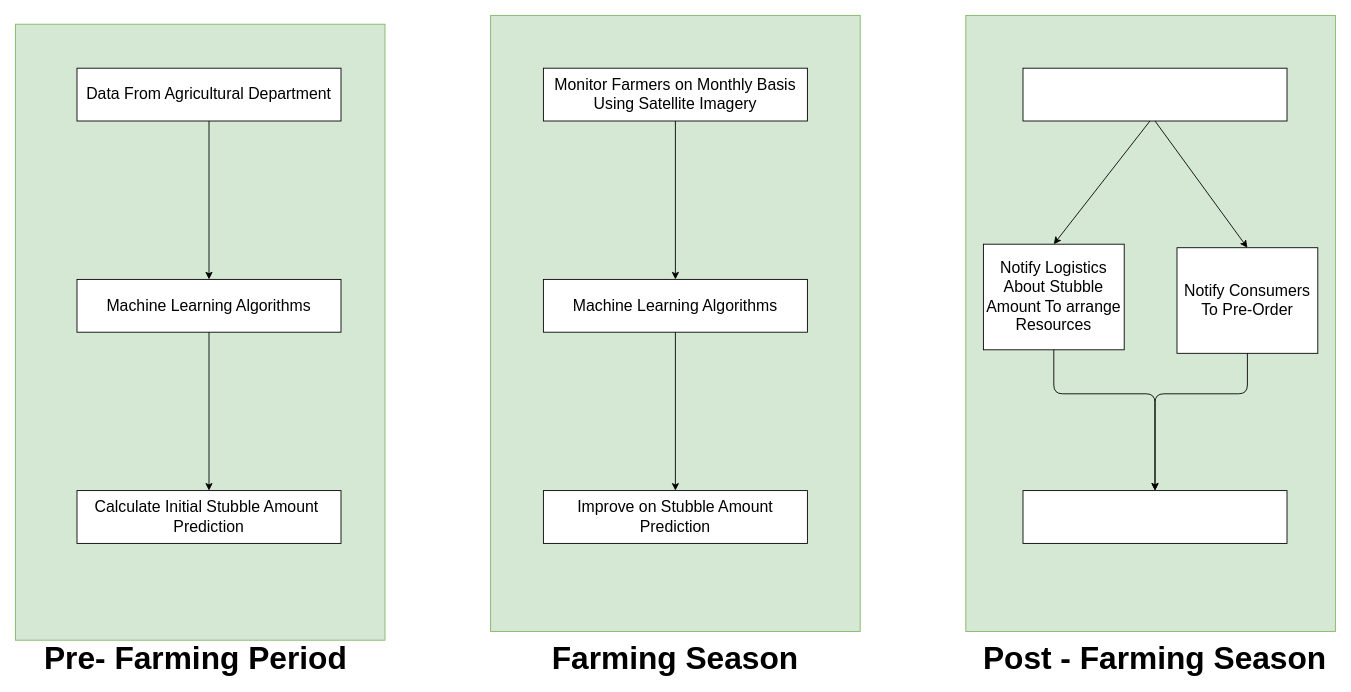
Image size: 1351x692. Some labels were removed from this diagram. The shapes that lost their labels are listed below. From the top down, each one's centre as x and y in pixels, then its label:
At (1154,94): "Predict Final Stubble Amount".
At (1154,516): "Allocate Best possible route for Delivery".
